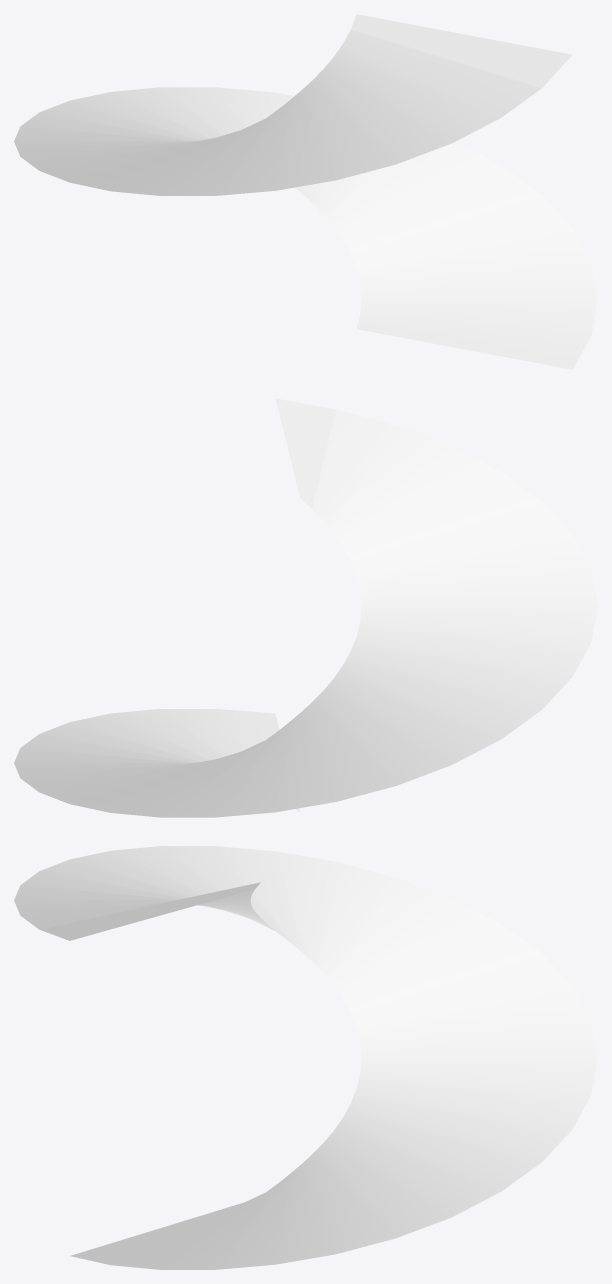
File: Spiral_Stair_Rm_Stair_Coll.fbx
3 views of the same model, one above another, from view 1: azimuth 30°, elevation 25°; view 2: azimuth 150°, elevation 25°; view 3: azimuth 270°, elevation 25° (orthographic).
Visible parts, largest first — view 1: P_Spiral_Stair_Rm_Btm2; view 2: P_Spiral_Stair_Rm_Btm2; view 3: P_Spiral_Stair_Rm_Btm2.
Boxes of the visible parts, x1,y1,x2,y2 form: P_Spiral_Stair_Rm_Btm2: (14, 14, 597, 369); P_Spiral_Stair_Rm_Btm2: (14, 398, 597, 817); P_Spiral_Stair_Rm_Btm2: (14, 846, 597, 1269).
Bounding box in the file's own units: 9.96 × 5.96 × 10.01.
